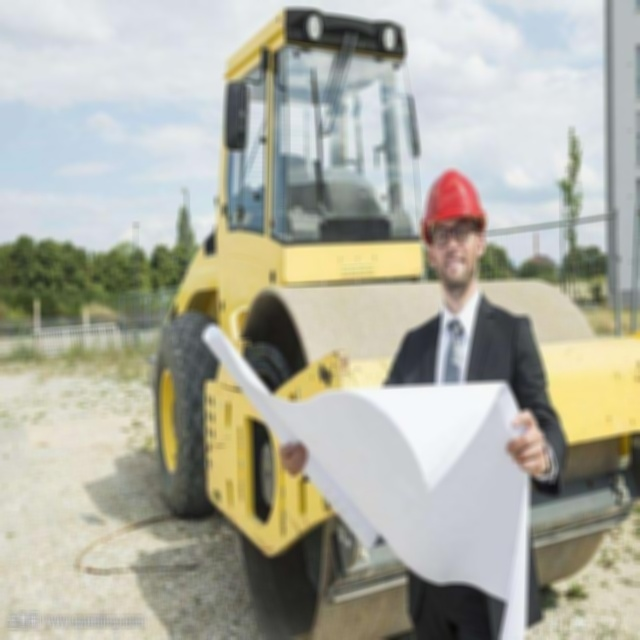Con_Casco: (421, 171, 487, 291)
